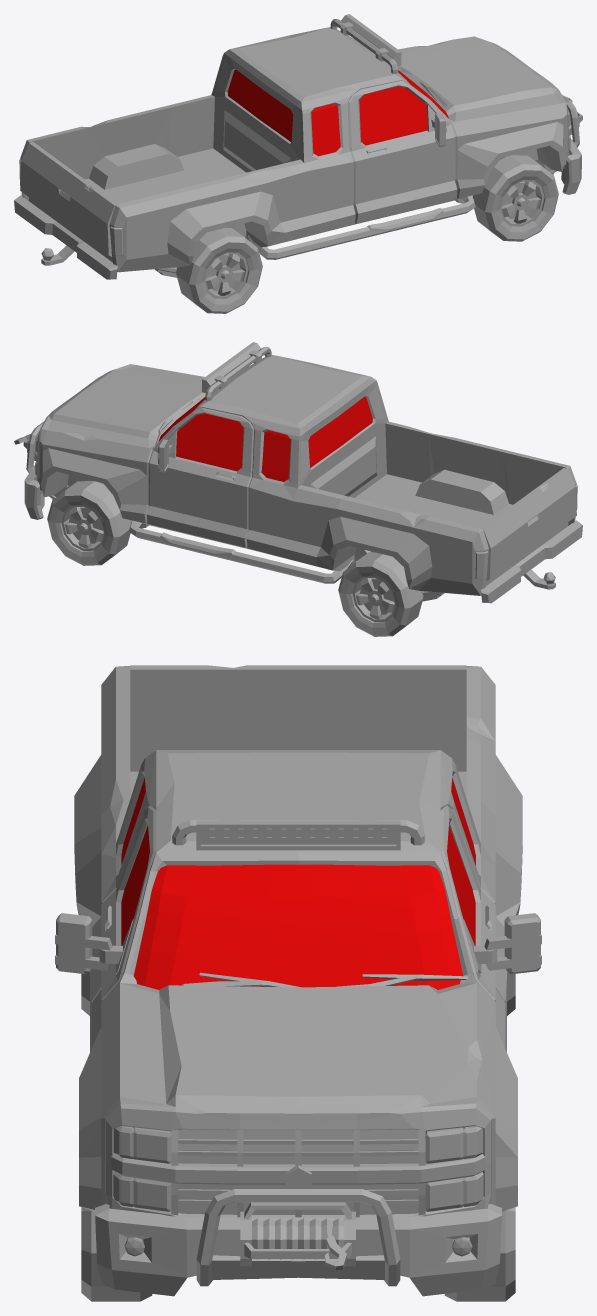
File: SK_Veh_Pickup_01.fbx
3 renders of one model, top to bottom at view 1: azimuth 30°, elevation 25°; view 2: azimuth 150°, elevation 25°; view 3: azimuth 270°, elevation 25°, orthographic. The views are drawn at different scales.
Parts seen in each view (by area): view 1: SK_Veh_Pickup_01, SK_Veh_Pickup_Glass, SK_Veh_Pickup_01_Wheel_fr, SK_Veh_Pickup_01_Wheel_rr; view 2: SK_Veh_Pickup_01, SK_Veh_Pickup_Glass, SK_Veh_Pickup_01_Wheel_fl, SK_Veh_Pickup_01_Wheel_rl; view 3: SK_Veh_Pickup_01, SK_Veh_Pickup_Glass, SK_Veh_Pickup_01_Wheel_fl, SK_Veh_Pickup_01_Wheel_fr.
Part boxes in pixels (<box>): SK_Veh_Pickup_01: <box>14,14,582,279</box>; SK_Veh_Pickup_Glass: <box>227,69,448,156</box>; SK_Veh_Pickup_01_Wheel_fr: <box>473,155,558,241</box>; SK_Veh_Pickup_01_Wheel_rr: <box>176,228,262,313</box>; SK_Veh_Pickup_01: <box>14,342,582,603</box>; SK_Veh_Pickup_Glass: <box>158,396,372,481</box>; SK_Veh_Pickup_01_Wheel_fl: <box>47,481,131,565</box>; SK_Veh_Pickup_01_Wheel_rl: <box>338,552,423,636</box>; SK_Veh_Pickup_01: <box>55,665,541,1296</box>; SK_Veh_Pickup_Glass: <box>121,778,475,989</box>; SK_Veh_Pickup_01_Wheel_fl: <box>444,1207,515,1301</box>; SK_Veh_Pickup_01_Wheel_fr: <box>81,1207,152,1301</box>.
Size of the model in its own units: 641 by 219 by 255.
